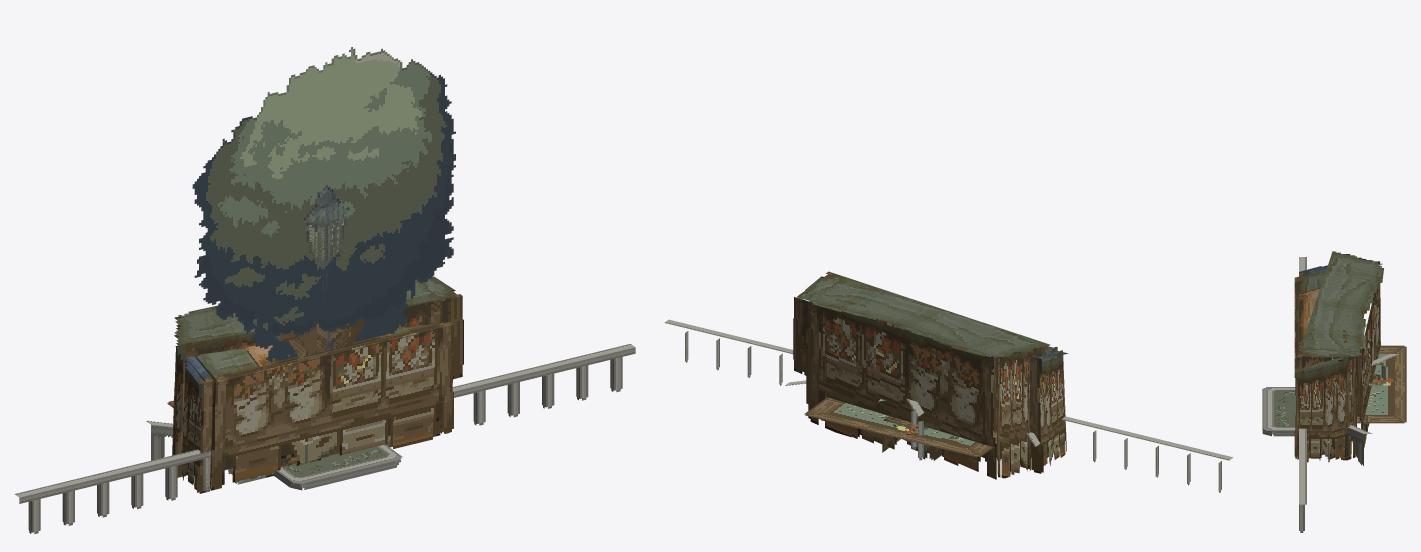
File: Props.gltf
3 views of the same model, side by side, from view 1: azimuth 30°, elevation 25°; view 2: azimuth 150°, elevation 25°; view 3: azimuth 270°, elevation 25° (orthographic). The views are drawn at different scales.
Visible parts, largest first — view 1: tree_small-col, foodstand_wide_olive-col, railing_stone_9x-col, foodstand_wide_olive_tilted-col, foodstand_wide_blue-col, railing_stone_6x-col, tree_small_underground-col, street_light-col, tree_tiny-col, foodstand_small_beige-col; view 2: foodstand_wide_olive_tilted-col, foodstand_wide_blue-col, tree_underground_simmel-col, railing_stone_9x-col, foodstand_wide_olive-col; view 3: foodstand_wide_olive_tilted-col, foodstand_wide_olive-col, tree_underground_simmel-col, tree_small_underground-col, railing_stone_9x-col, foodstand_small_beige-col, railing_stone_bulge-col, railing_bulge_left-col, flower_box_vertical-col.
Part boxes in pixels (x1=…): tree_small-col: x1=192, y1=47, x2=455, y2=463; foodstand_wide_olive-col: x1=195, y1=321, x2=453, y2=491; railing_stone_9x-col: x1=15, y1=344, x2=635, y2=534; foodstand_wide_olive_tilted-col: x1=174, y1=276, x2=463, y2=477; foodstand_wide_blue-col: x1=172, y1=344, x2=440, y2=493; railing_stone_6x-col: x1=117, y1=369, x2=532, y2=509; tree_small_underground-col: x1=274, y1=444, x2=402, y2=490; street_light-col: x1=304, y1=185, x2=349, y2=454; tree_tiny-col: x1=250, y1=303, x2=407, y2=362; foodstand_small_beige-col: x1=246, y1=333, x2=391, y2=475; foodstand_wide_olive_tilted-col: x1=793, y1=271, x2=1050, y2=479; foodstand_wide_blue-col: x1=820, y1=311, x2=1068, y2=473; tree_underground_simmel-col: x1=804, y1=397, x2=996, y2=457; railing_stone_9x-col: x1=664, y1=319, x2=1233, y2=492; foodstand_wide_olive-col: x1=845, y1=312, x2=1057, y2=470; foodstand_wide_olive_tilted-col: x1=1297, y1=251, x2=1383, y2=460; foodstand_wide_olive-col: x1=1294, y1=271, x2=1349, y2=462; tree_underground_simmel-col: x1=1357, y1=345, x2=1406, y2=423; tree_small_underground-col: x1=1262, y1=387, x2=1295, y2=436; railing_stone_9x-col: x1=1299, y1=257, x2=1306, y2=532; foodstand_small_beige-col: x1=1298, y1=288, x2=1319, y2=347; railing_stone_bulge-col: x1=1344, y1=324, x2=1372, y2=465; railing_bulge_left-col: x1=1371, y1=354, x2=1399, y2=379; flower_box_vertical-col: x1=1371, y1=374, x2=1396, y2=387.
Size of the model in its own units: 18 by 13.31 by 4.44.
3 materials, 3 textured.
